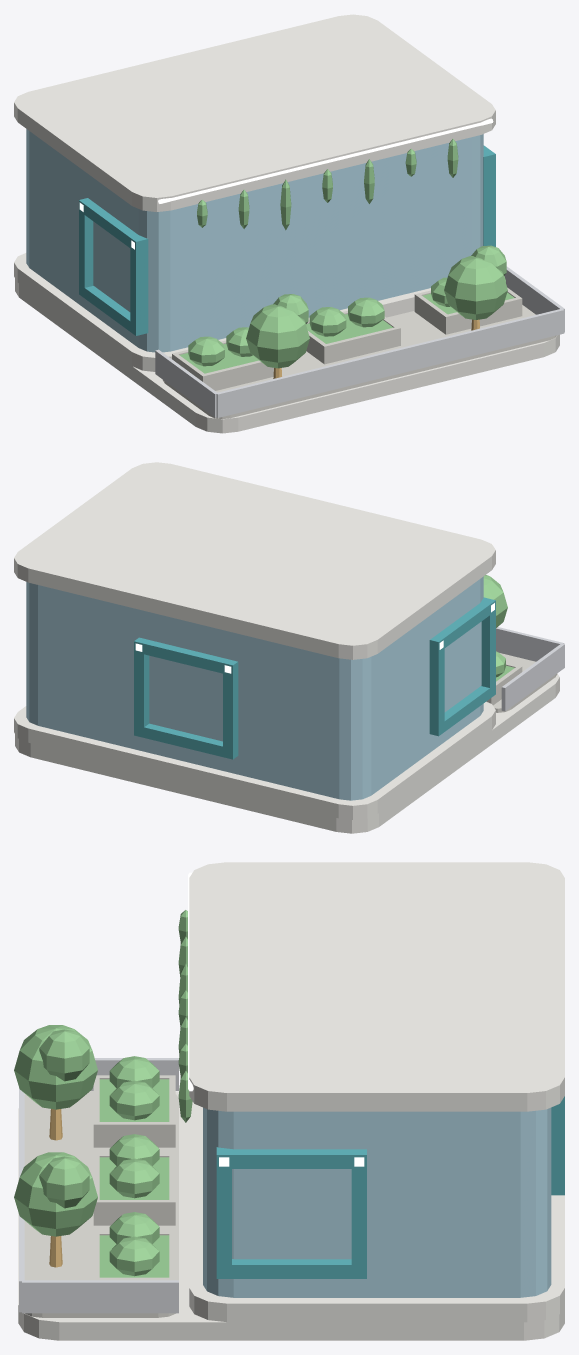
File: arcology-towers-and-skyways-terraced-garden-section-7543f8b9__23239.glb
The picture shows the model from 3 angles, top to bottom: view 1: azimuth 30°, elevation 25°; view 2: azimuth 150°, elevation 25°; view 3: azimuth 270°, elevation 25°; orthographic projection. The views are drawn at different scales.
Parts seen in each view (by area): view 1: terraced-garden-section; view 2: terraced-garden-section; view 3: terraced-garden-section.
Part boxes in pixels (x1,y1,x2,y2): terraced-garden-section: (14,14,564,433); terraced-garden-section: (14,462,564,833); terraced-garden-section: (14,862,564,1340).
Bounding box in the file's own units: 16 × 8 × 16.13.
